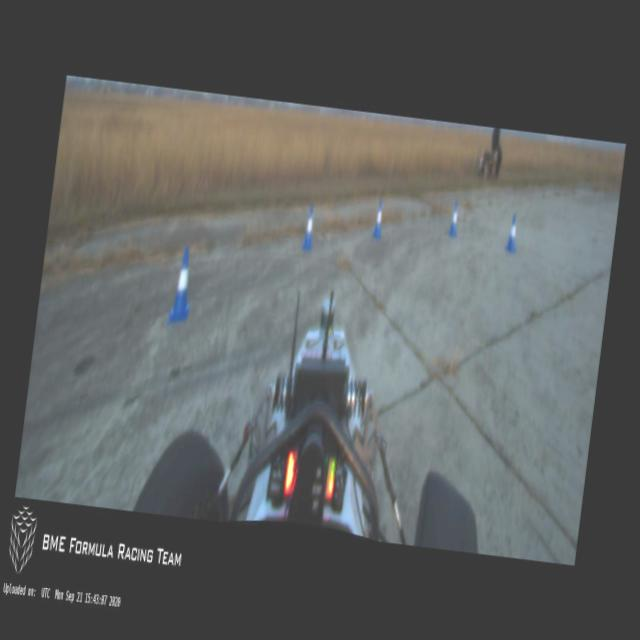blue_cone: (166, 245, 196, 324), (300, 204, 316, 249), (372, 198, 386, 238), (505, 214, 519, 252), (448, 200, 462, 237)
